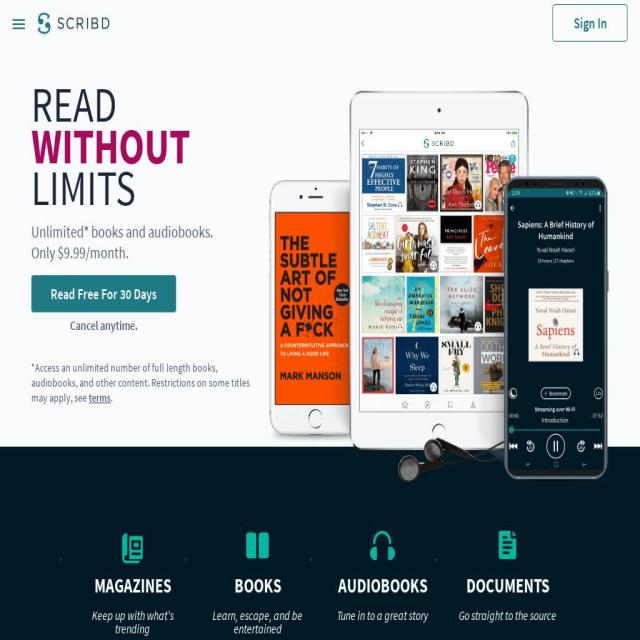button: (32, 275, 176, 313), (37, 0, 109, 43), (552, 4, 628, 42), (13, 15, 25, 36)
heading: (31, 83, 609, 125), (31, 125, 609, 167), (31, 167, 609, 208), (76, 576, 189, 596), (201, 576, 314, 596), (326, 576, 439, 596), (451, 576, 564, 596), (37, 13, 110, 34)
image: (269, 90, 609, 499), (244, 527, 271, 563), (369, 527, 396, 563), (494, 527, 521, 563), (122, 534, 143, 564)
link: (88, 390, 110, 405)
text: (31, 360, 250, 405), (31, 220, 213, 242), (76, 600, 189, 635), (201, 600, 314, 635), (32, 312, 176, 333), (326, 600, 439, 622), (451, 600, 564, 622), (51, 284, 157, 304), (31, 242, 129, 262), (573, 13, 607, 32), (110, 390, 112, 405)
